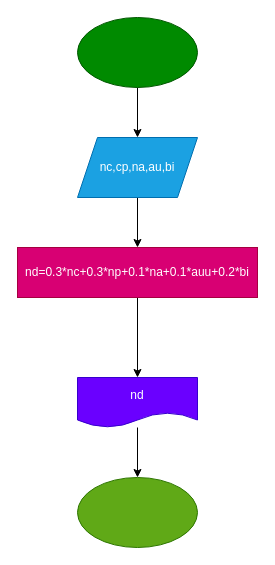
Some shapes in this 275 by 565 pixel diagram are drawn without their labels. The shapes that lost their labels are listed below. From the top down, each one's centre as x and y in pixels, then its label:
(137,52): INICIO
(137,512): FIN
